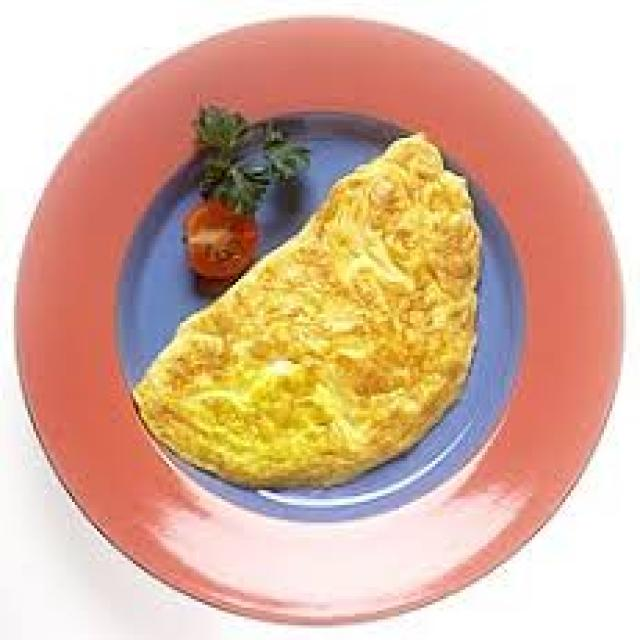telur_dadar: (122, 124, 487, 496)
